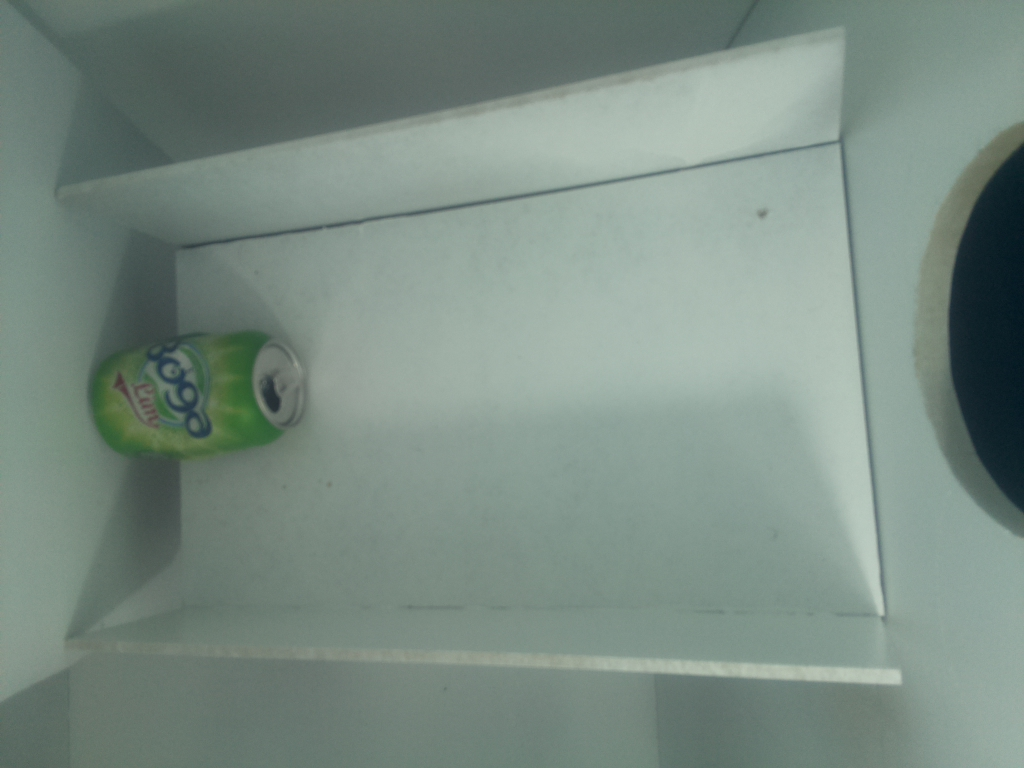kaleng: (91, 332, 313, 459)
